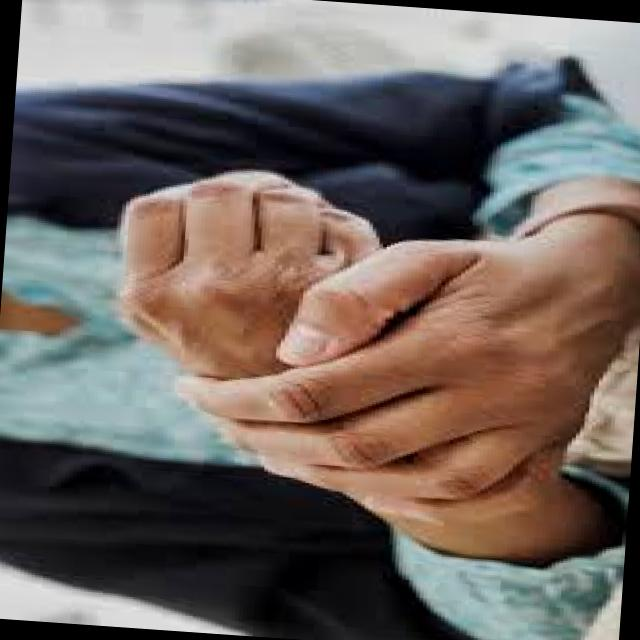Hand: (167, 217, 640, 520), (92, 156, 456, 499)
